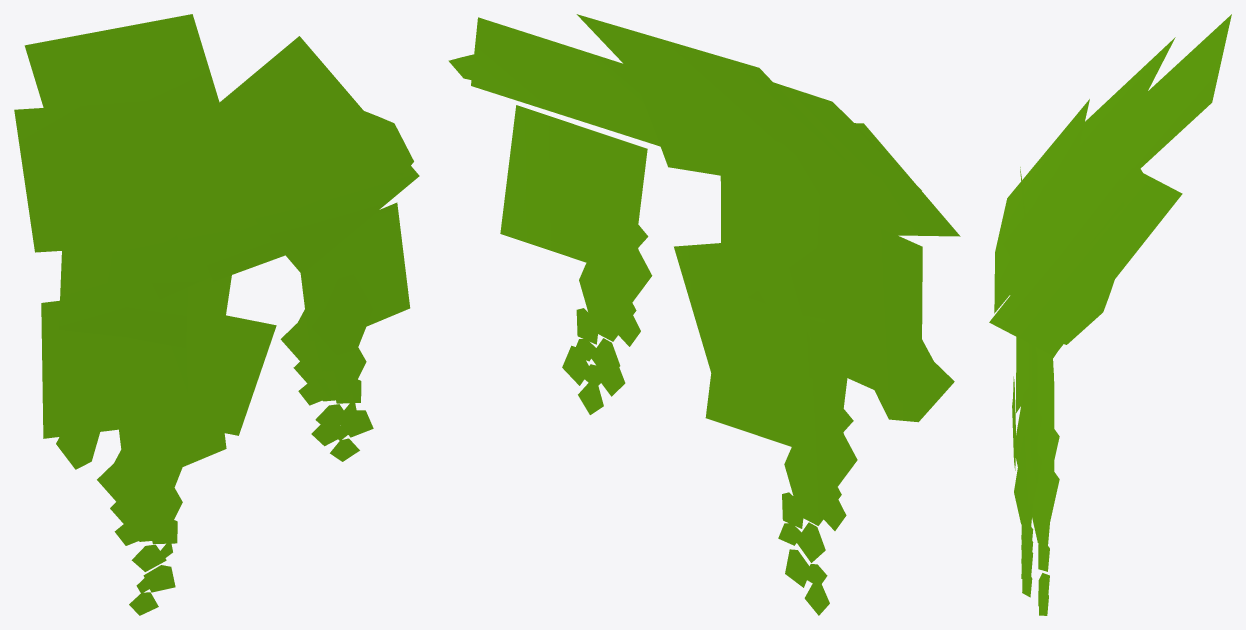
File: medievalkit_prop_vine5.glb
3 views of the same model, side by side, from view 1: azimuth 30°, elevation 25°; view 2: azimuth 150°, elevation 25°; view 3: azimuth 270°, elevation 25° (orthographic). The views are drawn at different scales.
Visible parts, largest first — view 1: Prop_Vine5; view 2: Prop_Vine5; view 3: Prop_Vine5.
Part boxes in pixels (x1,y1,x2,y2): Prop_Vine5: [14, 14, 419, 615]; Prop_Vine5: [448, 14, 960, 615]; Prop_Vine5: [989, 14, 1231, 615].
Size of the model in its own units: 2.3 by 2.99 by 1.13.
